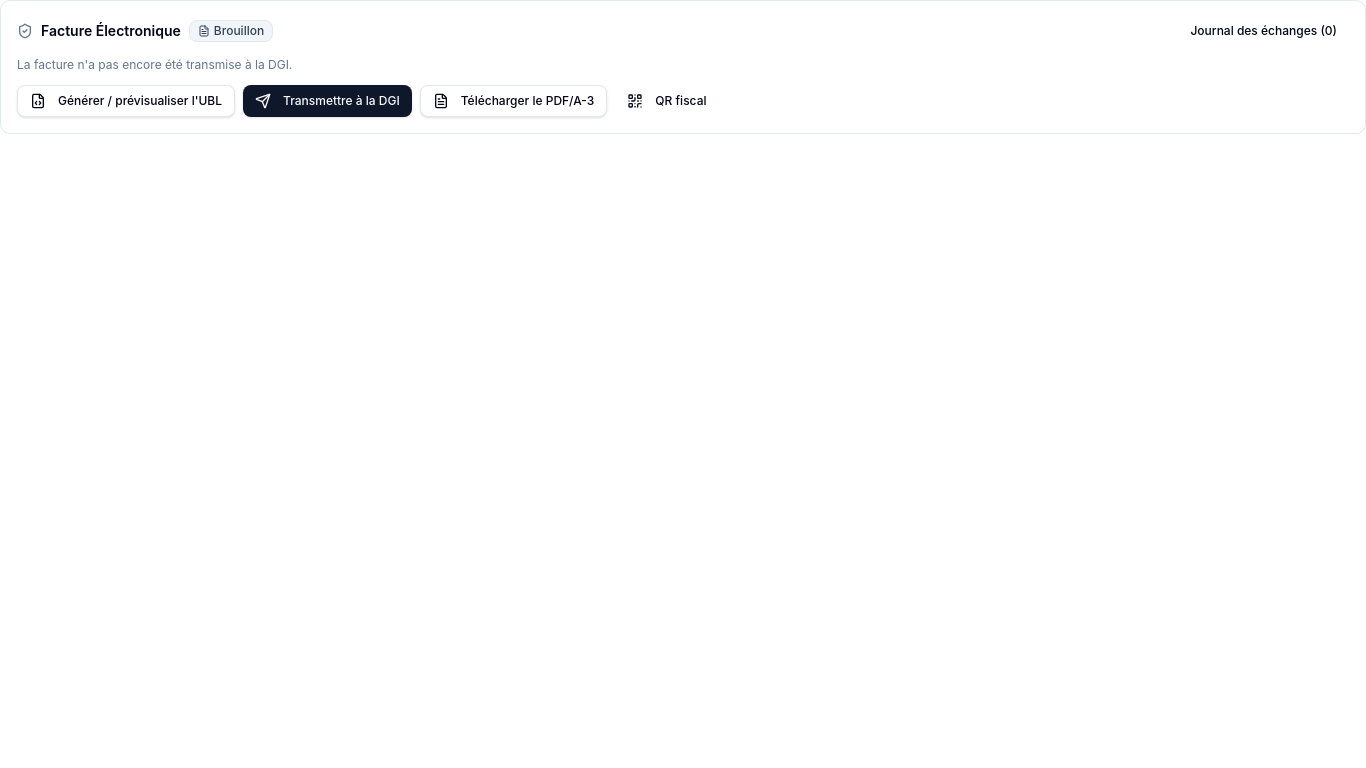
it: FactureElectroniquePanel — journal des échanges › explique un journal vide au lieu de laisser un blanc
Click the button "Journal des échanges (0)" at (1264, 31), box [1178,17,1349,45]
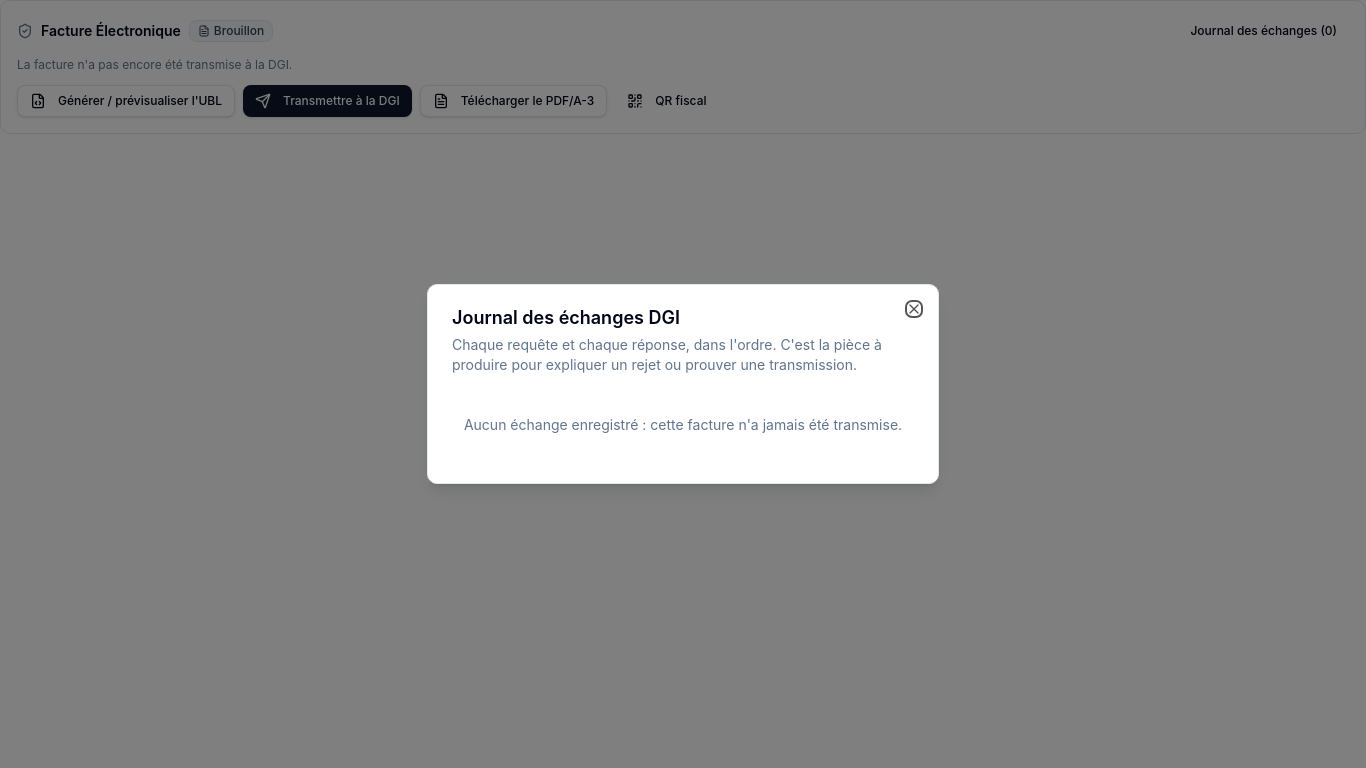
Expected: the text "n'a jamais été transmise" is shown, [464,416,902,433]
